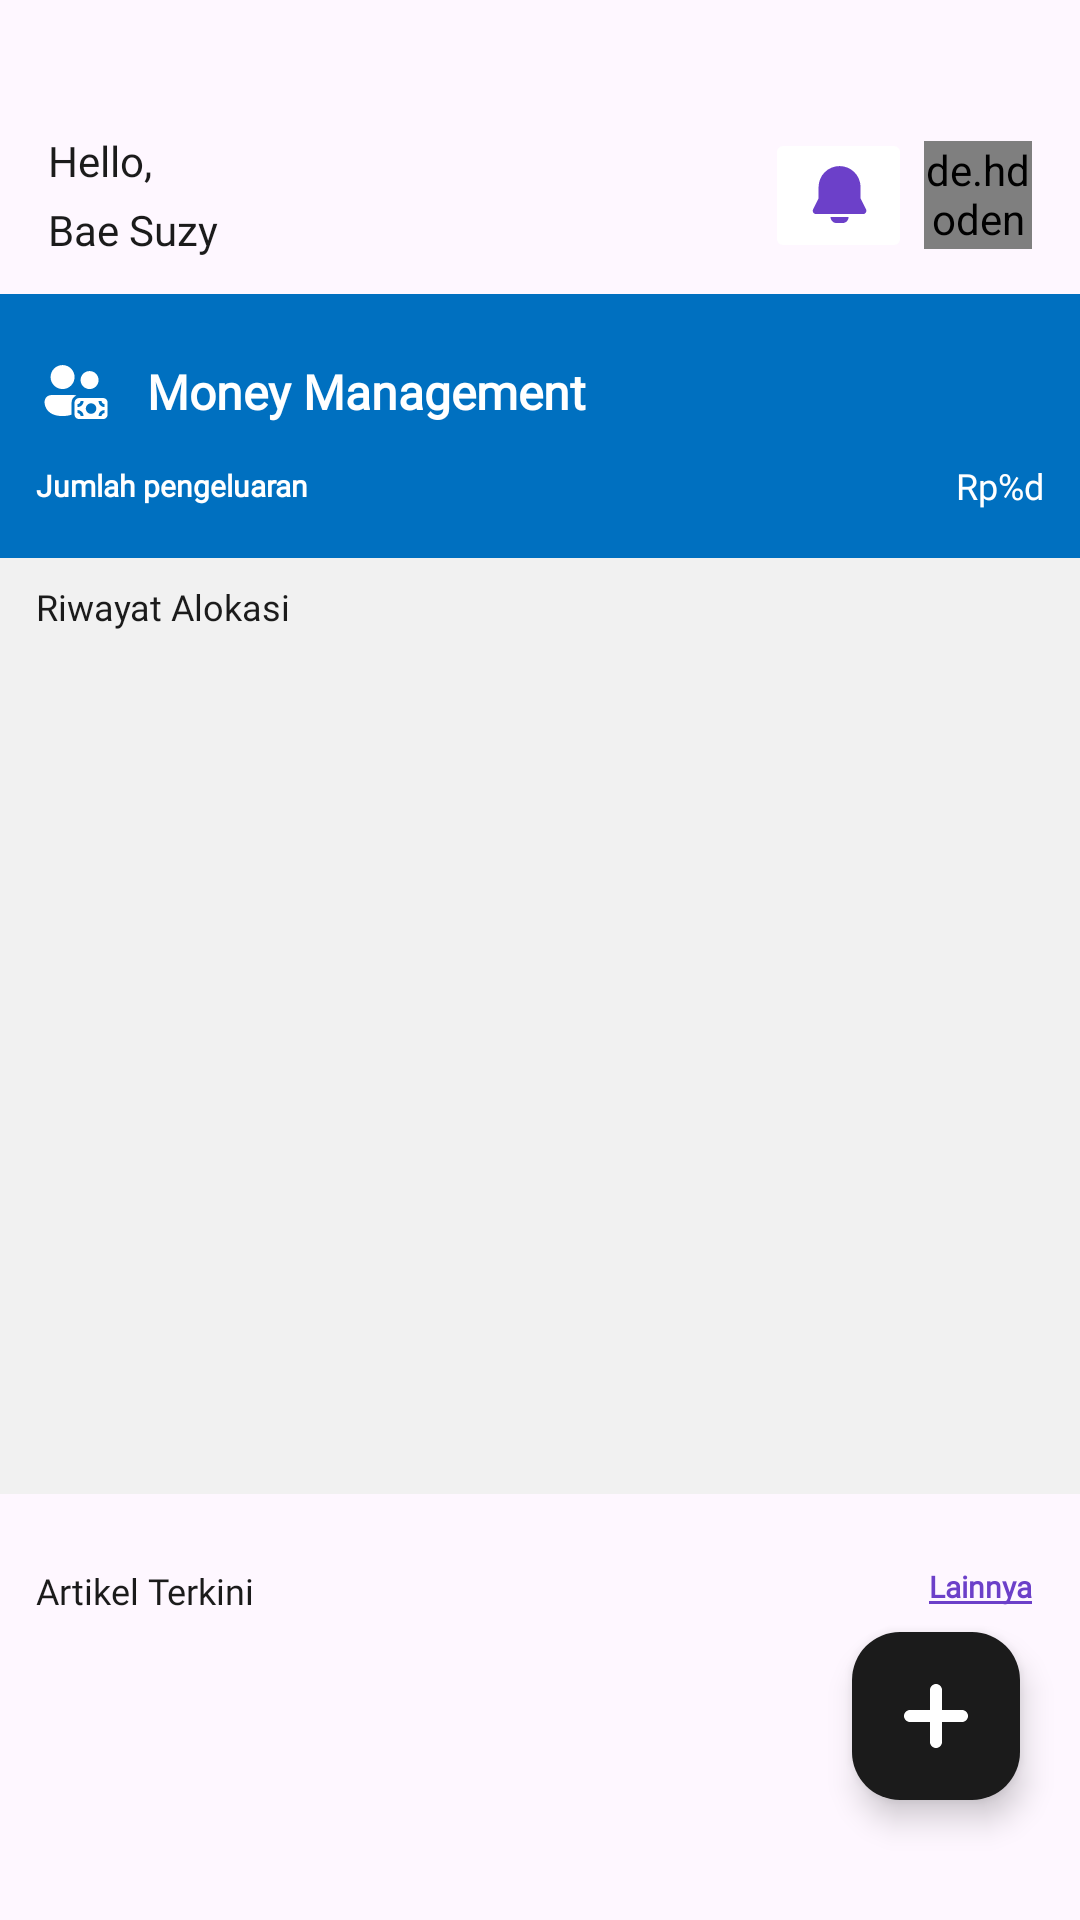

Icon click points for this 1080 x 1920 phone screenshot, format (x,y):
add: (936,1716)
notification: (839,194)
